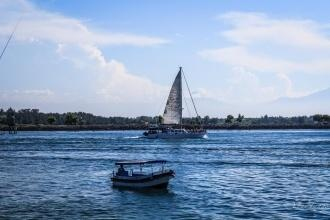fanchuan: (142, 64, 209, 139)
otherboat: (106, 151, 180, 192)
